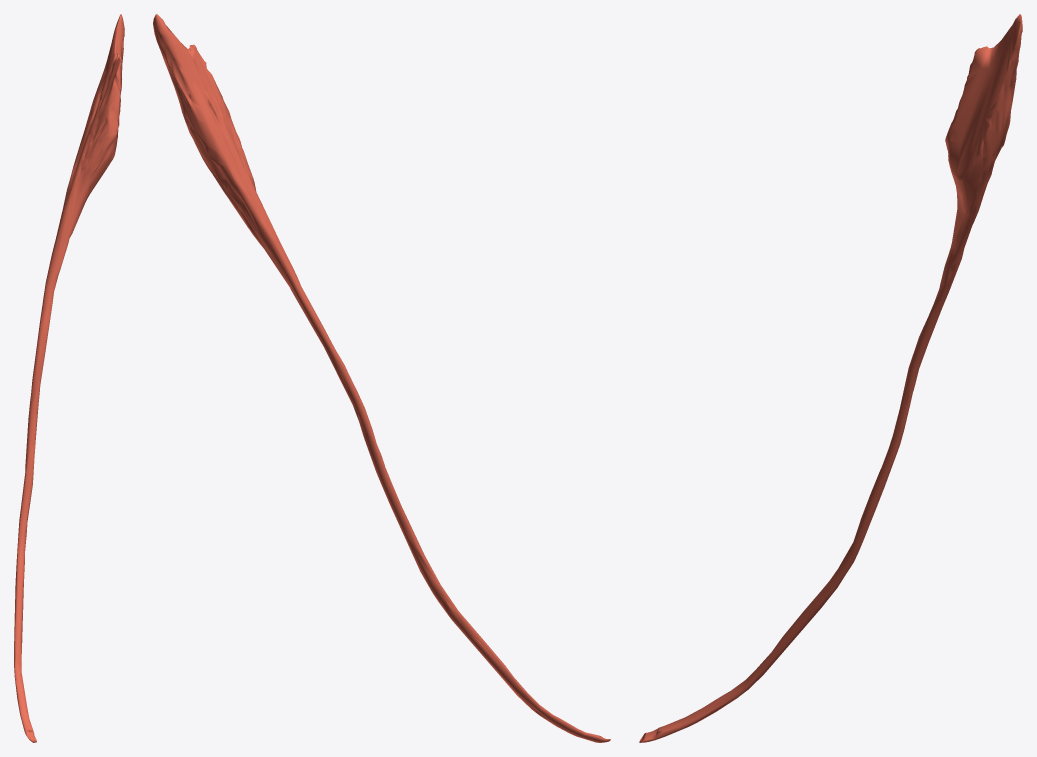
The model's file is extensor-indicis.glb.
The picture shows the model from 3 angles, left to right: view 1: azimuth 30°, elevation 25°; view 2: azimuth 150°, elevation 25°; view 3: azimuth 270°, elevation 25°; orthographic projection. The views are drawn at different scales.
Parts seen in each view (by area): view 1: Extensor indicis.r; view 2: Extensor indicis.r; view 3: Extensor indicis.r.
Boxes of the visible parts, left/top/right/bottom form: Extensor indicis.r: left=14, top=14, right=124, bottom=742; Extensor indicis.r: left=153, top=14, right=610, bottom=742; Extensor indicis.r: left=639, top=14, right=1022, bottom=742.
Size of the model in its own units: 0.0807 by 0.2062 by 0.0811.
